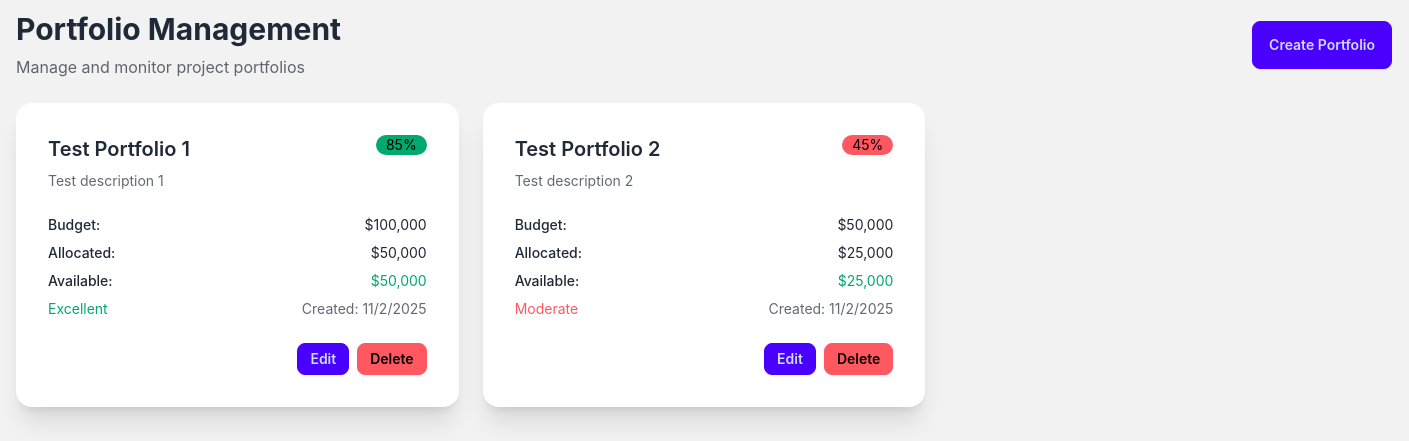
PortfolioList › enters edit mode when edit button is clicked
Click the button "Edit" below "Excellent" at (323, 359), box [297,343,349,375]
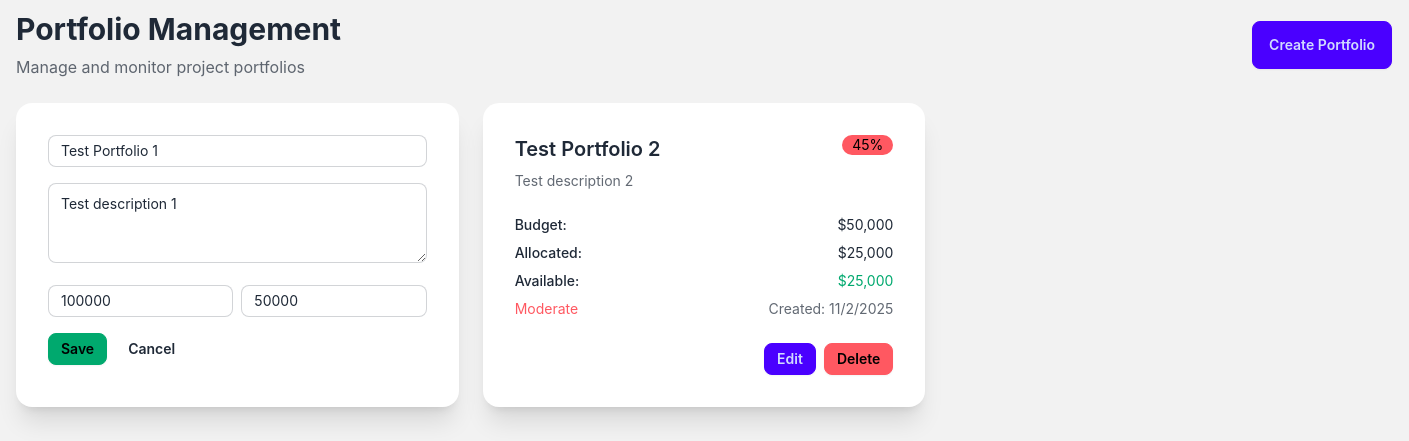
Expected: the field showing "Test Portfolio 1" is shown, [48,135,427,167]
Expected: the text box showing "Test description 1" is shown, [48,183,427,263]
Expected: the button "Save" is shown, [48,333,107,365]
